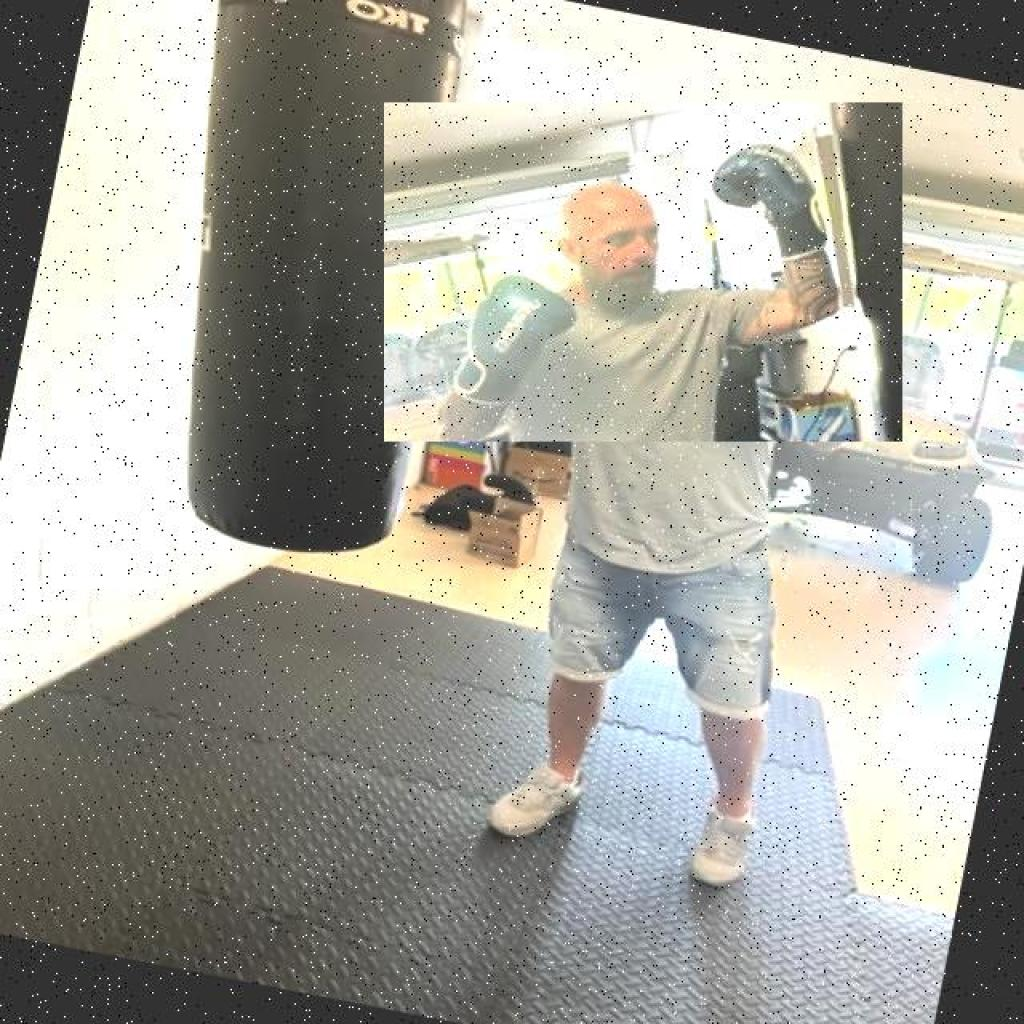uppercut: (384, 102, 902, 441)
